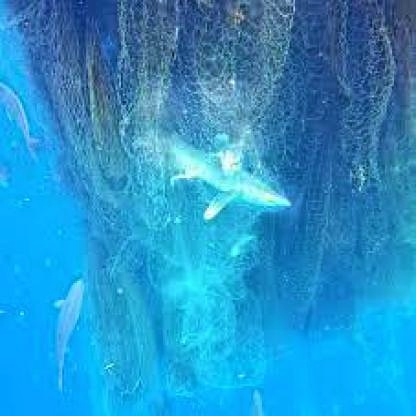net: (25, 1, 416, 260)
